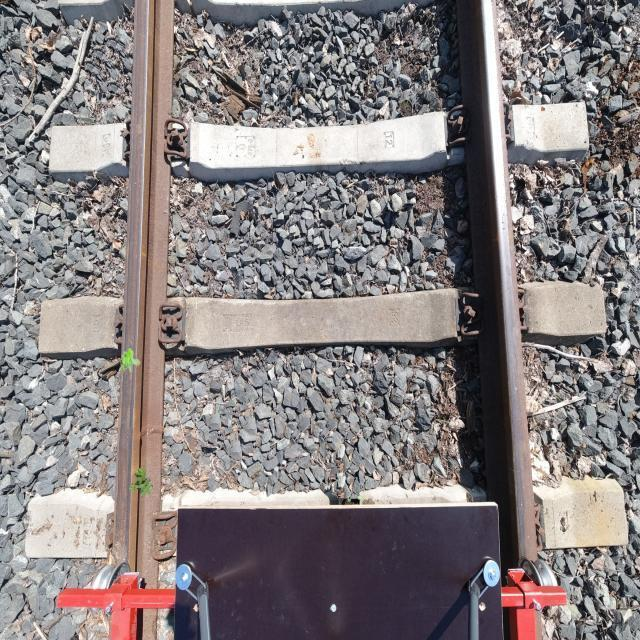Plant: (129, 467, 153, 498), (120, 348, 140, 373)
